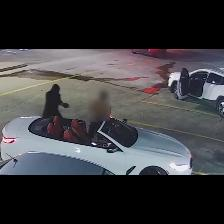person: (89, 90, 112, 138), (43, 84, 69, 117)
